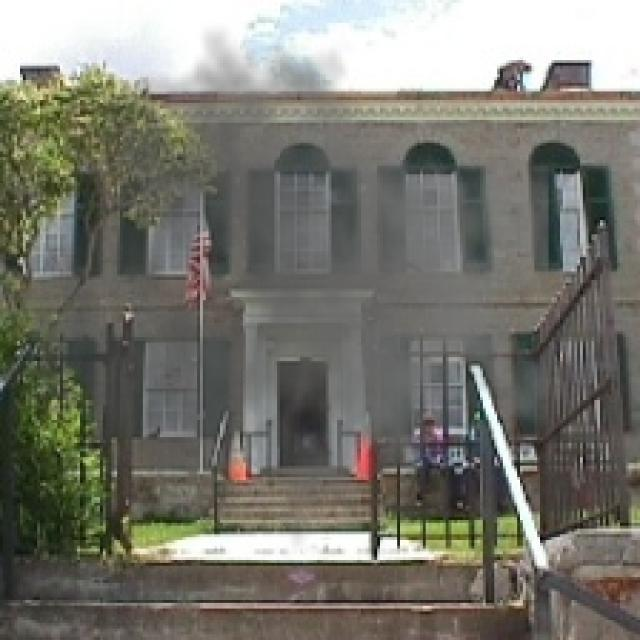Smoke: (22, 22, 548, 574)
